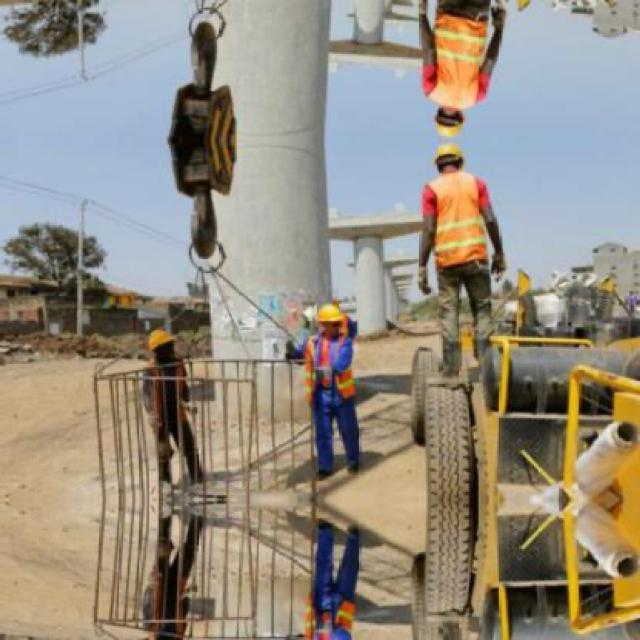con casco: (312, 286, 378, 340), (431, 138, 484, 192)
